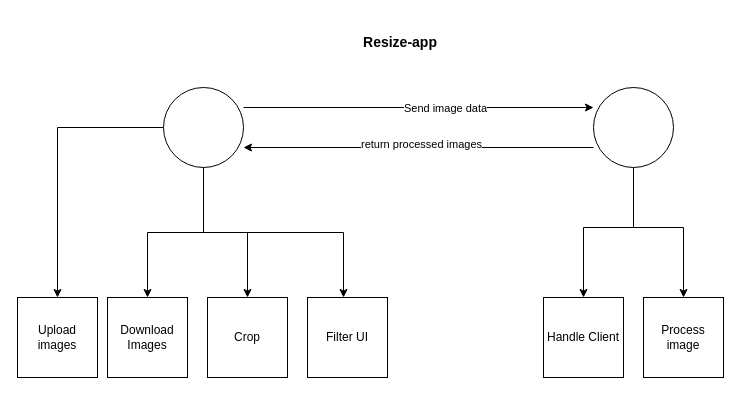
Image size: 741x395. Some labels were removed from this diagram. The shapes that lost their labels are listed below. From the top down, each one's centre as x and y in pixels, then its label:
At pixel 203 127: "Client UI".
At pixel 633 127: "Server".
